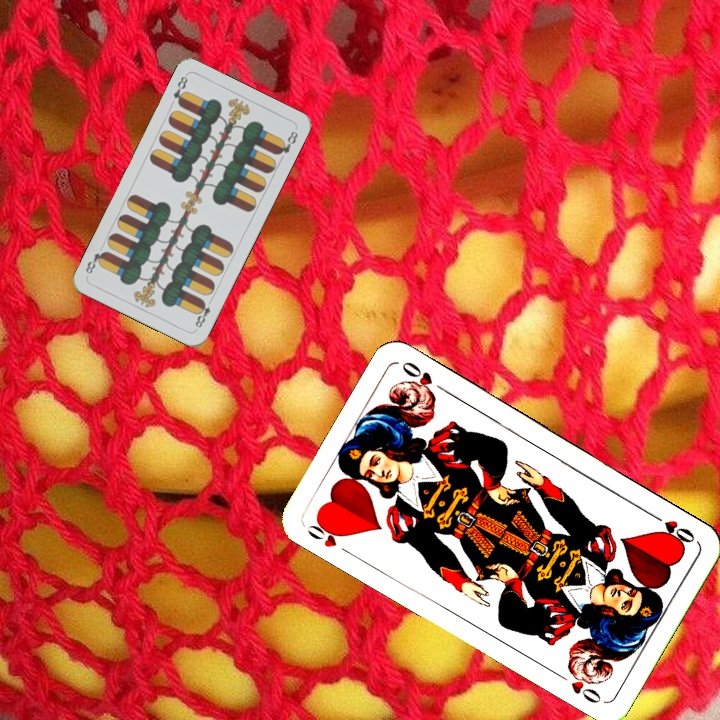E8: (191, 294, 216, 330), (169, 72, 191, 109)
HO: (303, 515, 354, 558), (645, 508, 698, 546)
